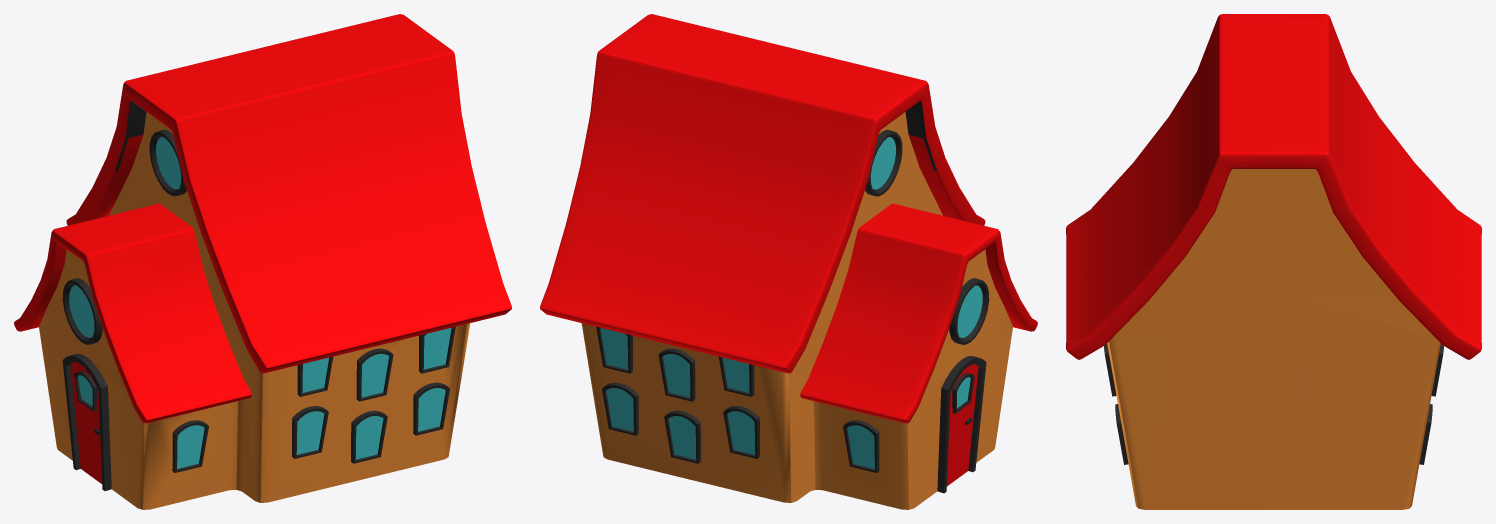
The model's file is House.fbx.
3 views of the same model, side by side, from view 1: azimuth 30°, elevation 25°; view 2: azimuth 150°, elevation 25°; view 3: azimuth 270°, elevation 25° (orthographic). The views are drawn at different scales.
Visible parts, largest first — view 1: House; view 2: House; view 3: House.
Boxes of the visible parts, x1,y1,x2,y2 form: House: (14,14,511,509); House: (540,14,1037,509); House: (1066,14,1481,509).
Bounding box in the file's own units: 7.66 × 7.44 × 7.4.
Materials: 1 (1 with a texture image).
